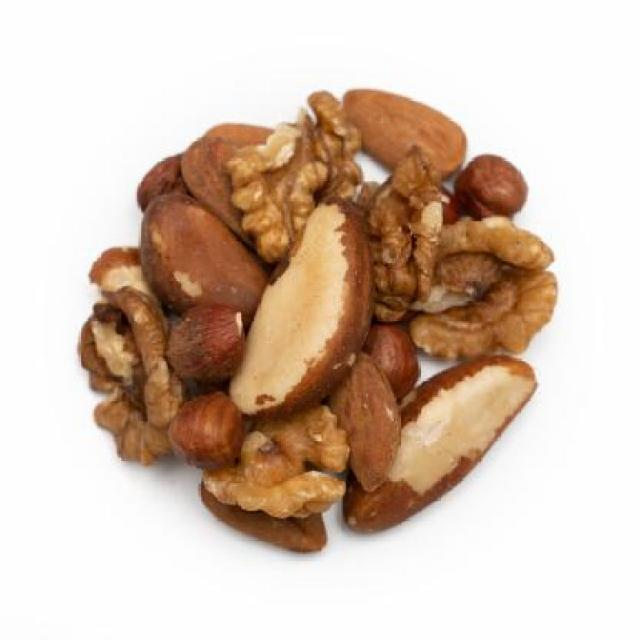Frutta secca: (80, 90, 558, 552)
